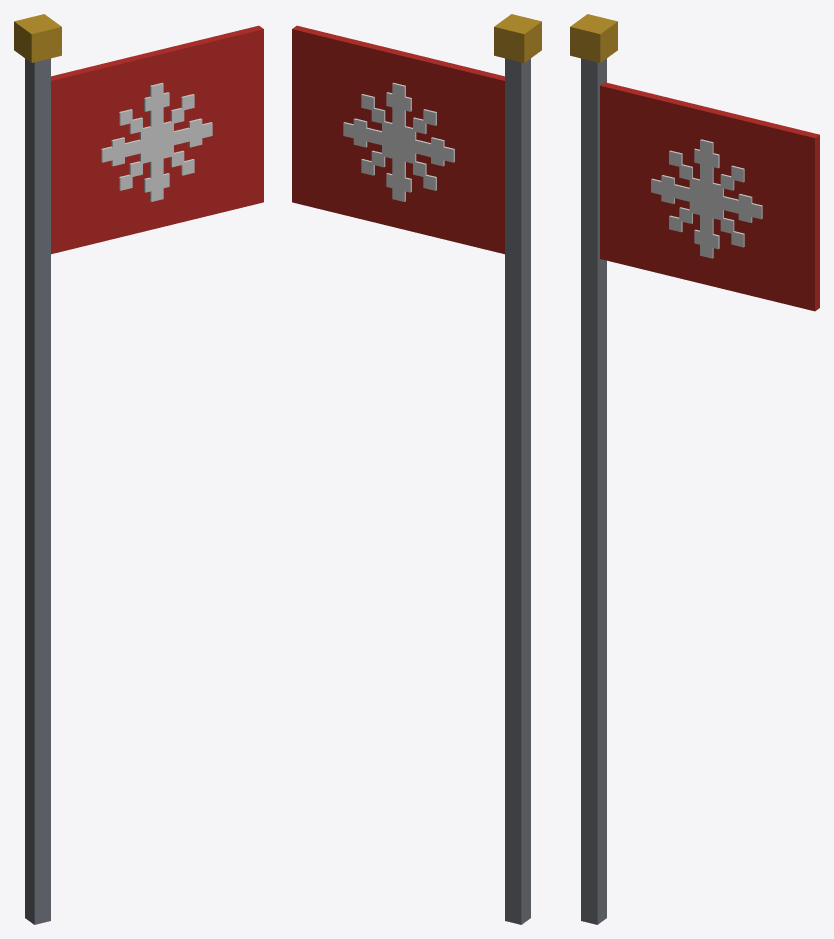
File: ntu-red-flagpole.glb
The picture shows the model from 3 angles, left to right: view 1: azimuth 30°, elevation 25°; view 2: azimuth 150°, elevation 25°; view 3: azimuth 330°, elevation 25°; orthographic projection.
Visible parts, largest first — view 1: box-prop; view 2: box-prop; view 3: box-prop.
Boxes of the visible parts, x1,y1,x2,y2 form: box-prop: (14, 14, 263, 924); box-prop: (292, 14, 541, 924); box-prop: (570, 14, 819, 924).
Size of the model in its own units: 1.73 by 6.2 by 0.22.
